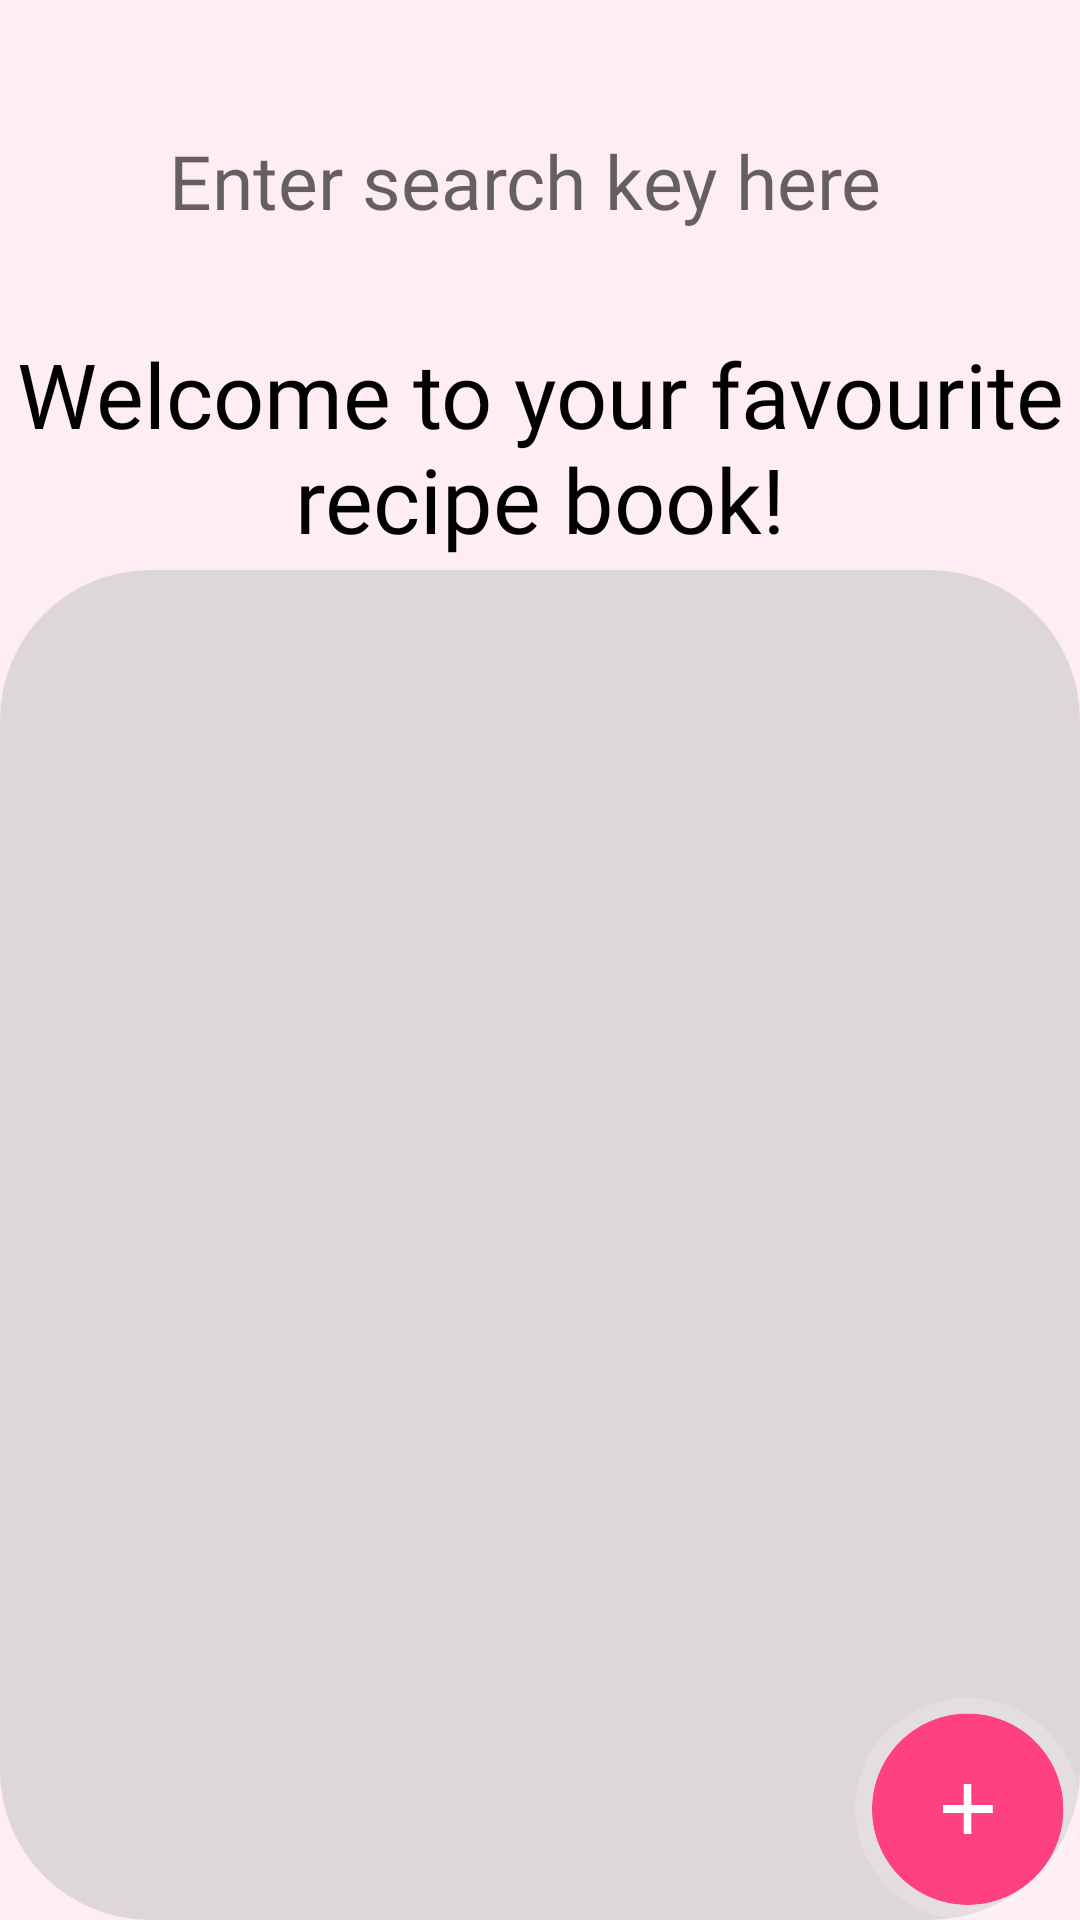

Icons on this 1080px×1920px Android screen, each with its box as (x1, y1, x2, y2):
plus: (872, 1713, 1080, 1920)
